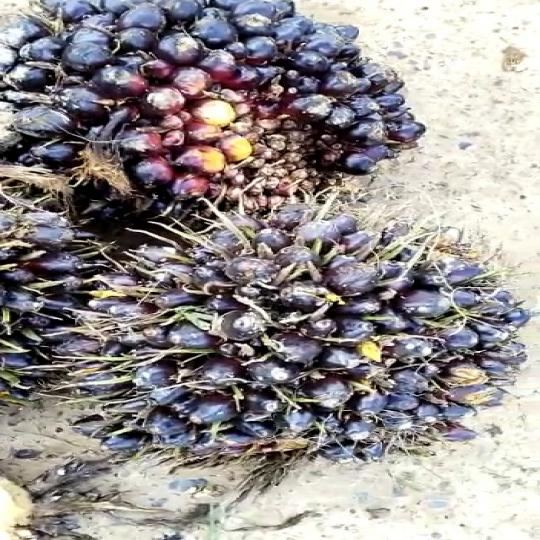mentah: (48, 202, 534, 454), (0, 0, 397, 229)
